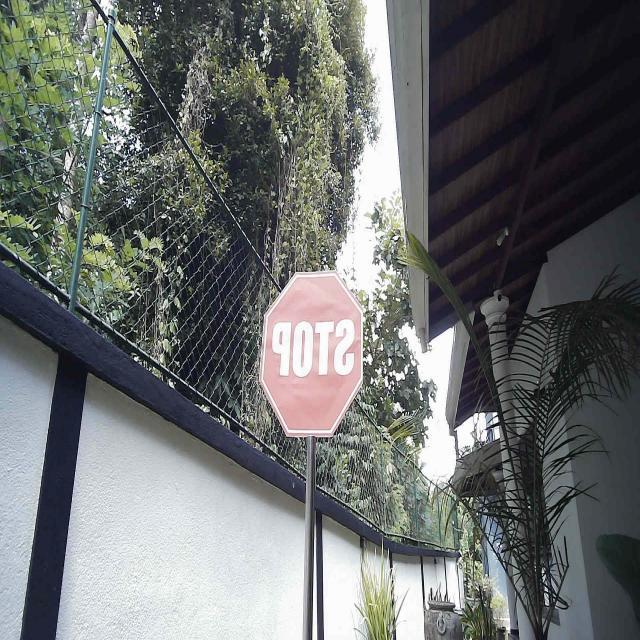stop: (258, 266, 364, 439)
